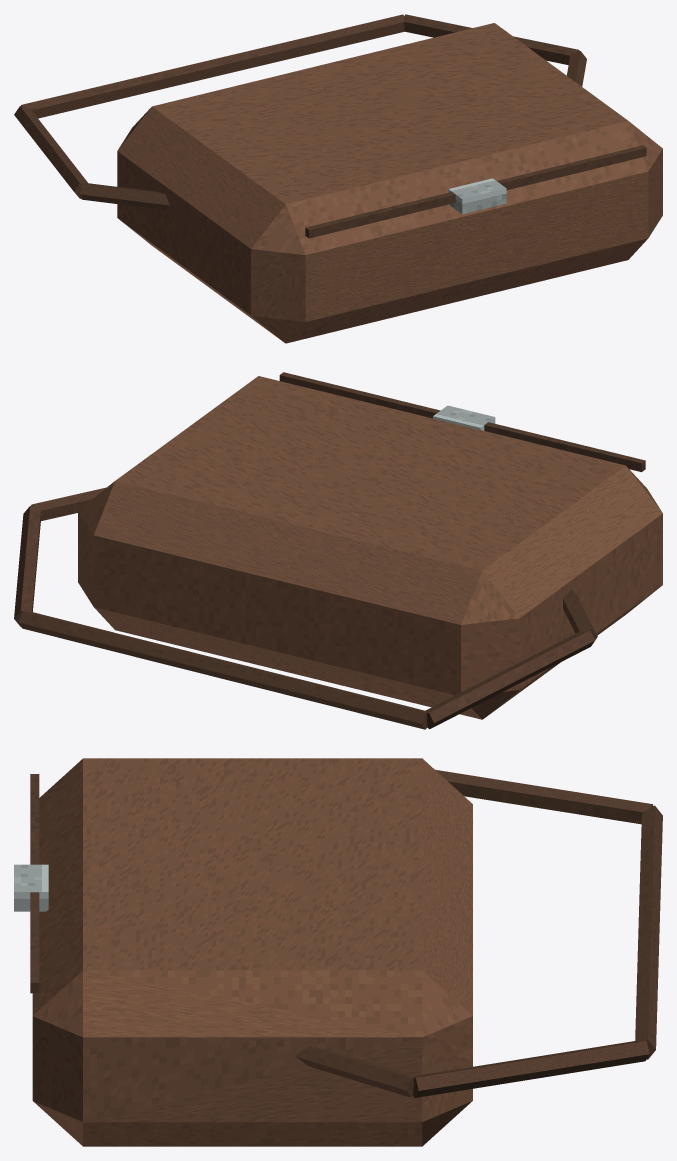
Rendered from purse.glb.
The picture shows the model from 3 angles, top to bottom: view 1: azimuth 30°, elevation 25°; view 2: azimuth 150°, elevation 25°; view 3: azimuth 270°, elevation 25°; orthographic projection. The views are drawn at different scales.
Parts seen in each view (by area): view 1: block_bag body, block_shoulder strap 2, block_zipper or closure, block_shoulder strap 1, block_shoulder strap 3, block_shoulder strap 0, block_buckle, block_shoulder strap 4; view 2: block_bag body, block_shoulder strap 2, block_shoulder strap 1, block_zipper or closure, block_shoulder strap 3, block_shoulder strap 4, block_buckle, block_shoulder strap 0; view 3: block_bag body, block_shoulder strap 3, block_shoulder strap 2, block_shoulder strap 1, block_shoulder strap 4, block_zipper or closure, block_buckle.
Boxes of the visible parts, x1,y1,x2,y2 form: block_bag body: [117, 23, 662, 343]; block_shoulder strap 2: [21, 14, 404, 118]; block_zipper or closure: [305, 145, 646, 238]; block_shoulder strap 1: [14, 106, 87, 198]; block_shoulder strap 3: [403, 14, 579, 64]; block_shoulder strap 0: [80, 183, 169, 209]; block_buckle: [448, 178, 506, 214]; block_shoulder strap 4: [567, 51, 586, 86]; block_bag body: [78, 376, 662, 719]; block_shoulder strap 2: [19, 611, 427, 729]; block_shoulder strap 1: [425, 630, 595, 729]; block_zipper or closure: [279, 372, 645, 472]; block_shoulder strap 3: [14, 506, 40, 626]; block_shoulder strap 4: [31, 487, 106, 520]; block_buckle: [433, 405, 495, 430]; block_shoulder strap 0: [563, 589, 597, 639]; block_bag body: [32, 758, 472, 1146]; block_shoulder strap 3: [413, 1040, 649, 1097]; block_shoulder strap 2: [635, 805, 662, 1059]; block_shoulder strap 1: [435, 769, 652, 824]; block_shoulder strap 4: [295, 1046, 414, 1097]; block_zipper or closure: [30, 774, 39, 993]; block_buckle: [14, 864, 48, 911].
Bounding box in the file's own units: 0.3291 × 0.084 × 0.28.
1 material, 1 textured.
